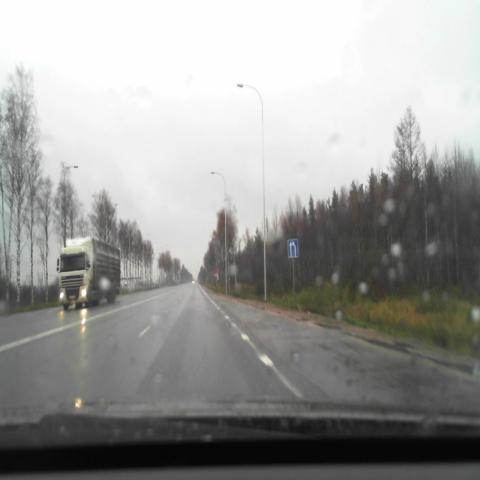5_15_5: (288, 239, 299, 258)
